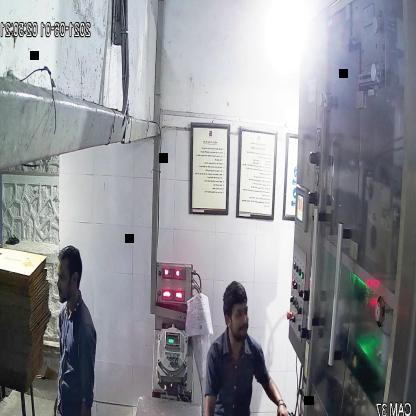no_goggles: (51, 262, 84, 291), (223, 300, 254, 325)
